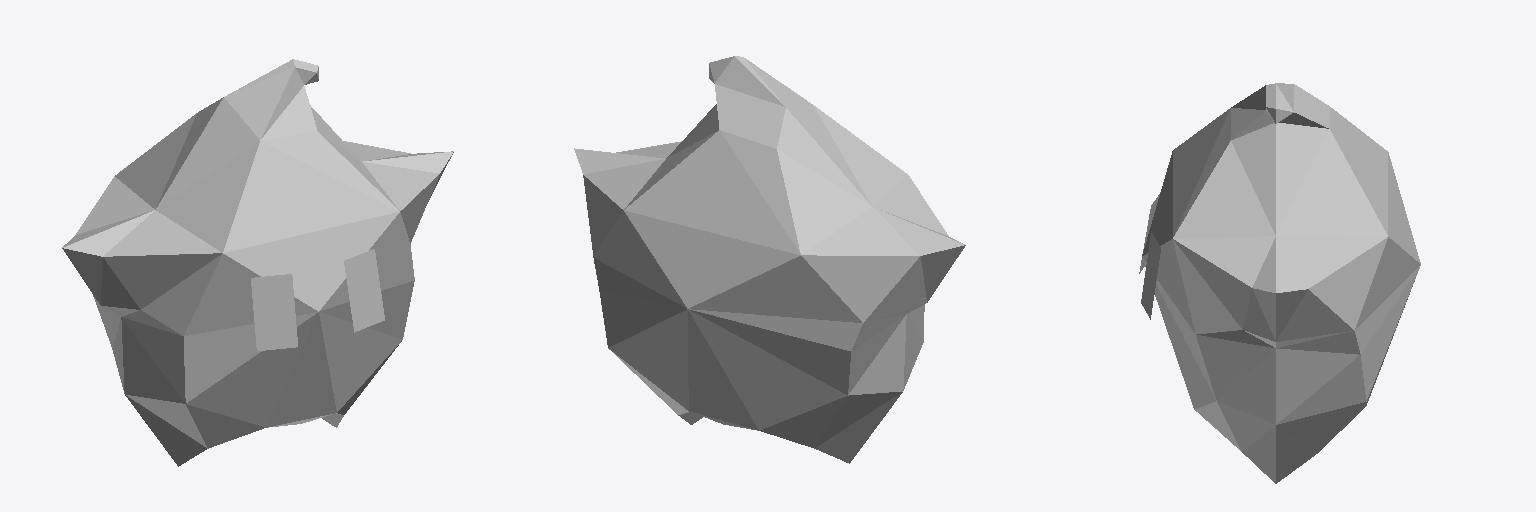
The model's file is Player1.obj.
3 views of the same model, side by side, from view 1: azimuth 30°, elevation 25°; view 2: azimuth 150°, elevation 25°; view 3: azimuth 270°, elevation 25° (orthographic).
Visible parts, largest first — view 1: luma_Mesh.006; view 2: luma_Mesh.006; view 3: luma_Mesh.006.
Part boxes in pixels (x1,y1,x2,y2): luma_Mesh.006: (62, 59, 453, 466); luma_Mesh.006: (574, 56, 965, 463); luma_Mesh.006: (1139, 83, 1420, 483).
Size of the model in its own units: 16.32 by 15.1 by 10.16.